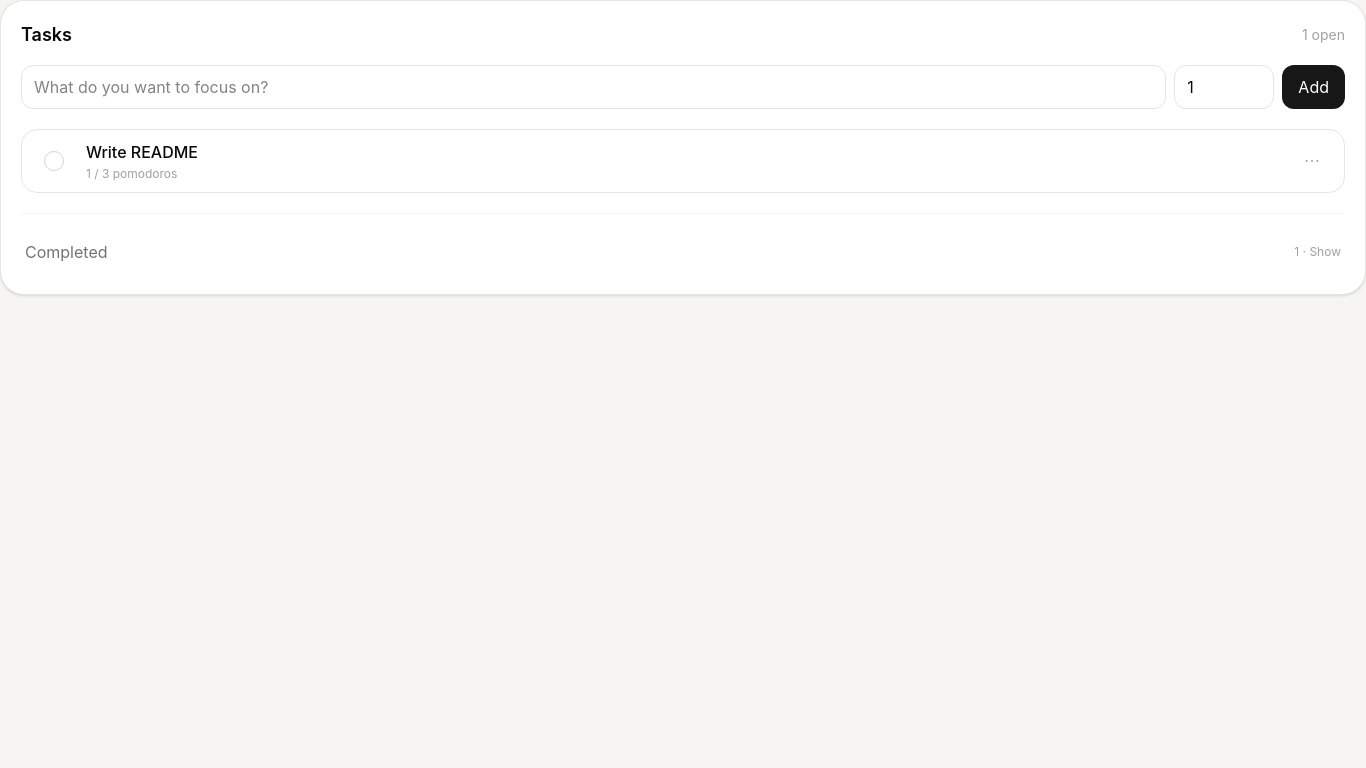
Scenario: TaskList Phase 2 workflow › edits title and estimate without changing completed pomodoros
Click the button named "More actions for".
click(1312, 161)  # box [1292,141,1332,181]
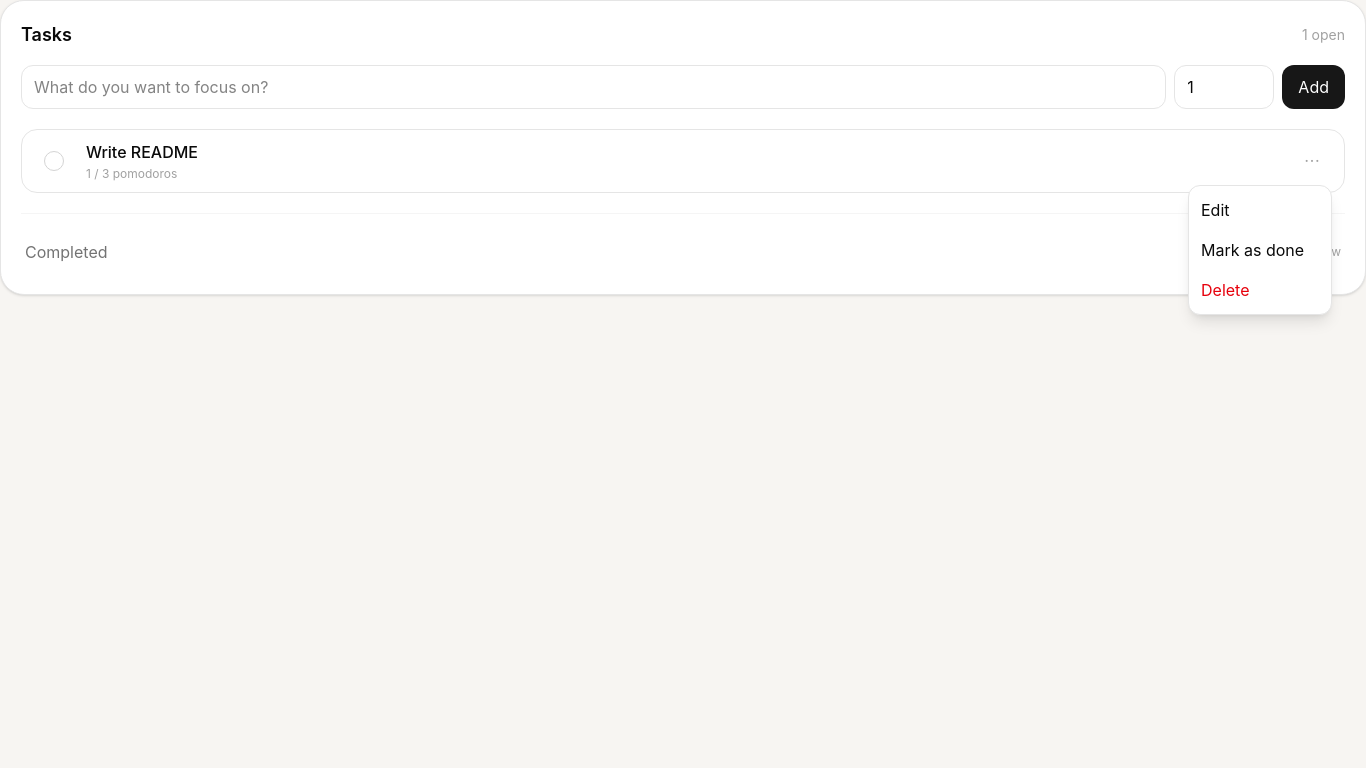
Click the menu item "Edit".
click(1260, 210)  # box [1189,190,1331,230]
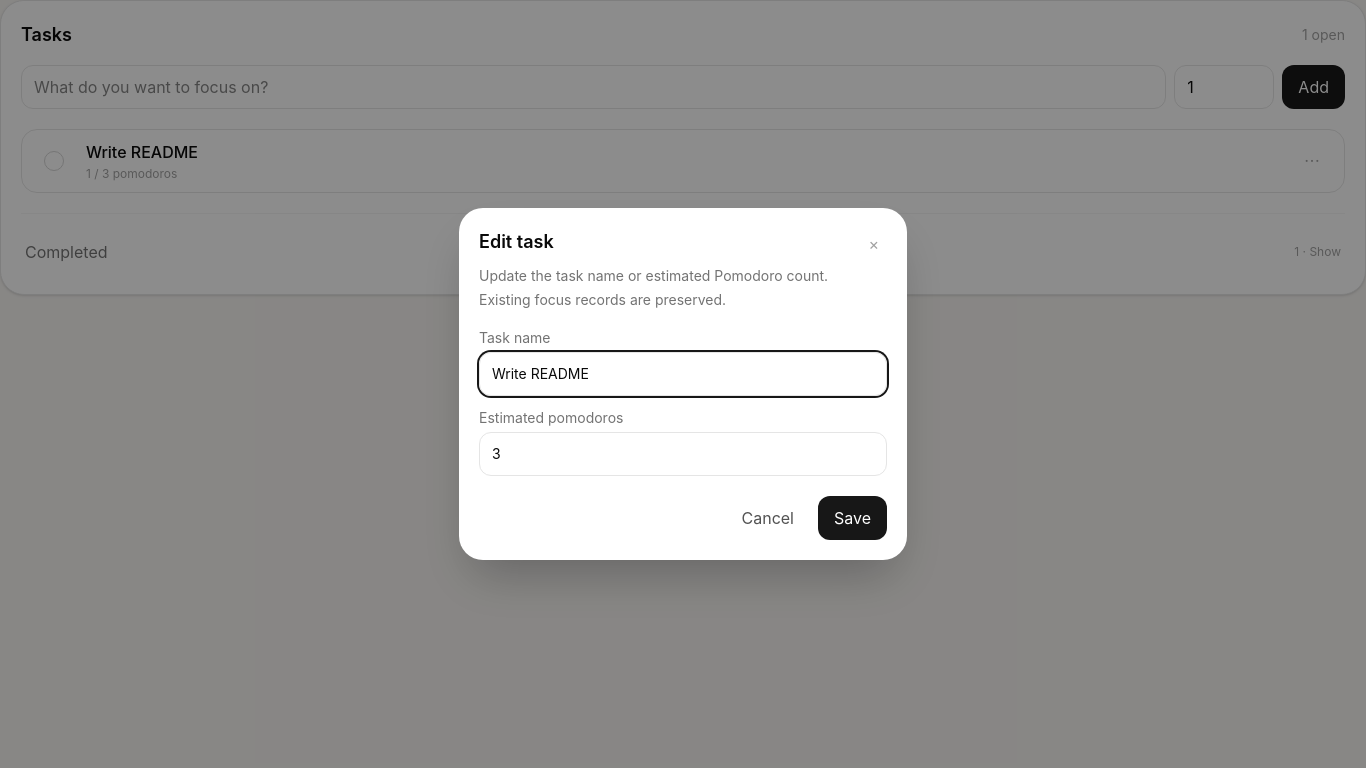
Replace the text in the field labelled "Task name" with "Write final README" at (683, 374), box [479,352,887,396]
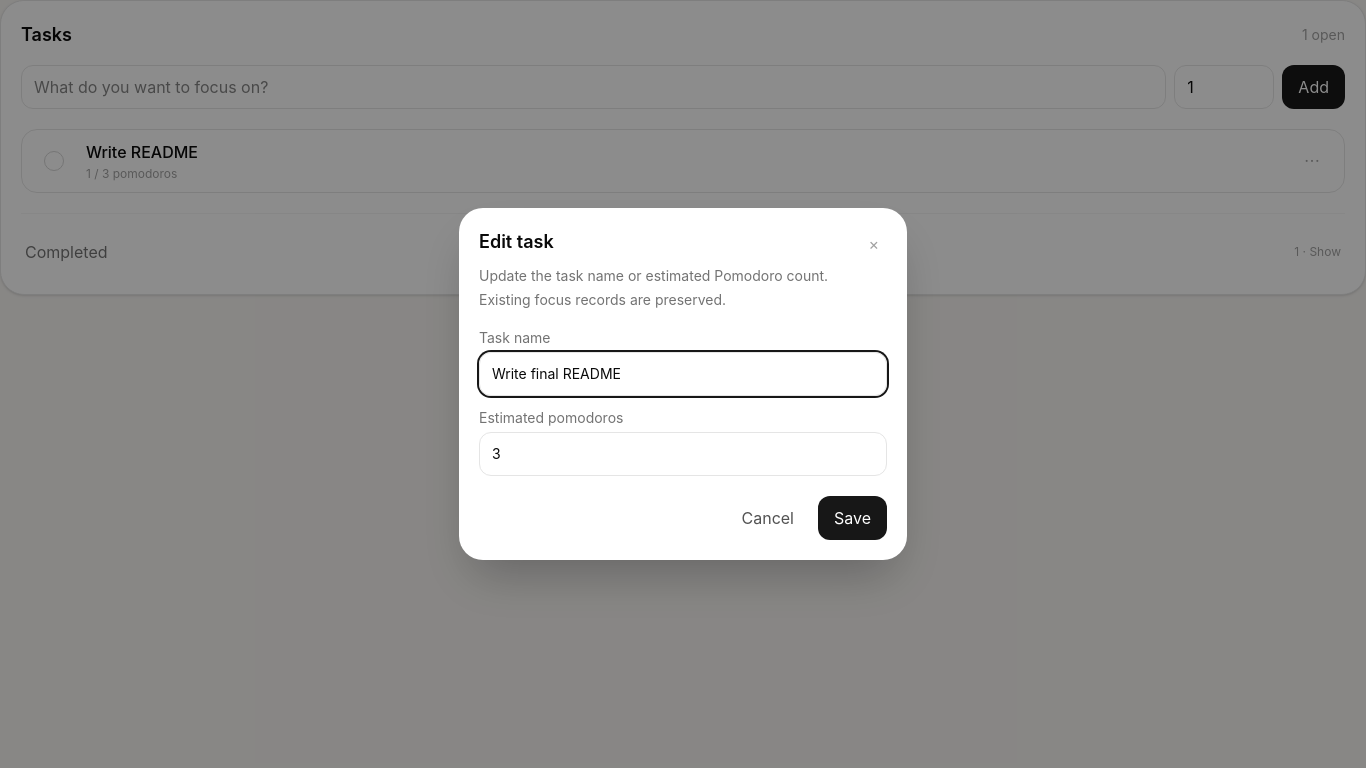
Replace the text in the number field labelled "Estimated pomodoros" with "5" at (683, 454), box [479,432,887,476]
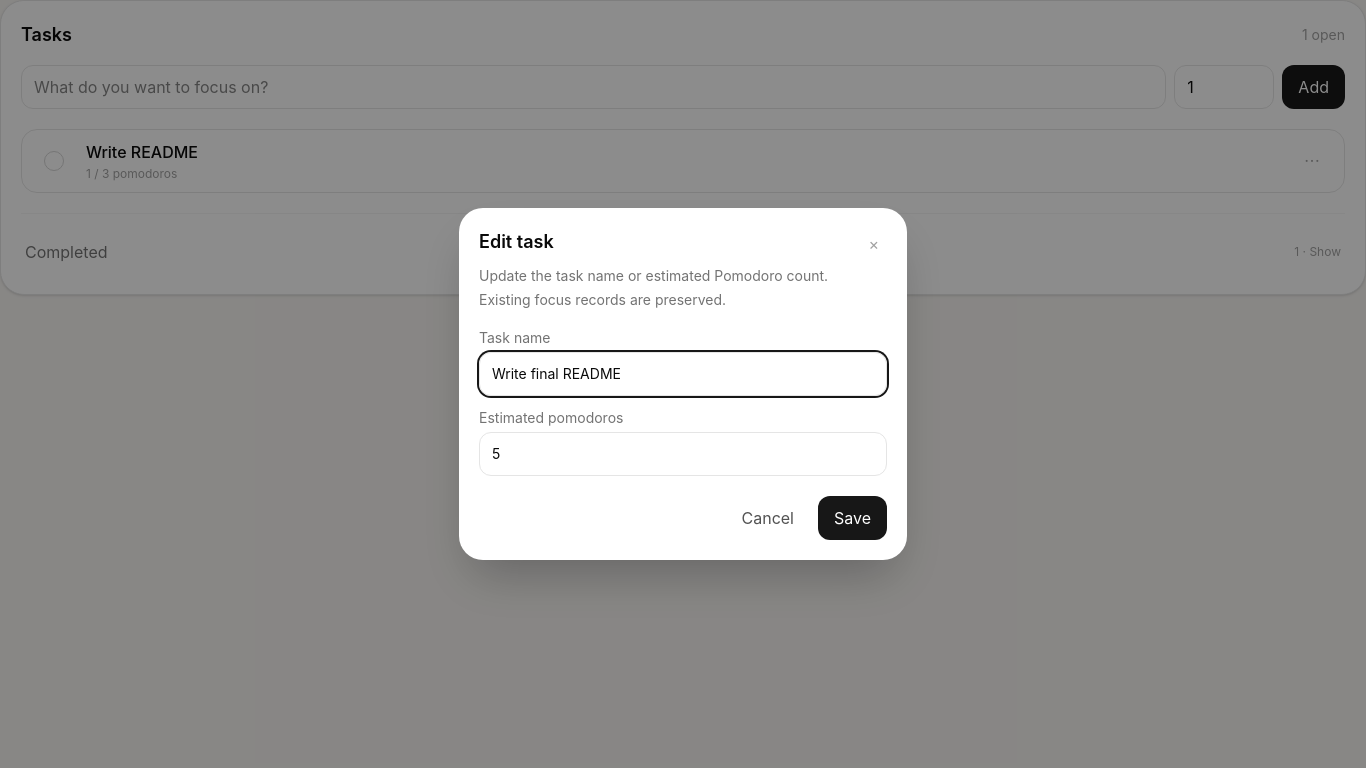
Click the button "Save".
click(852, 518)  # box [818,496,887,540]
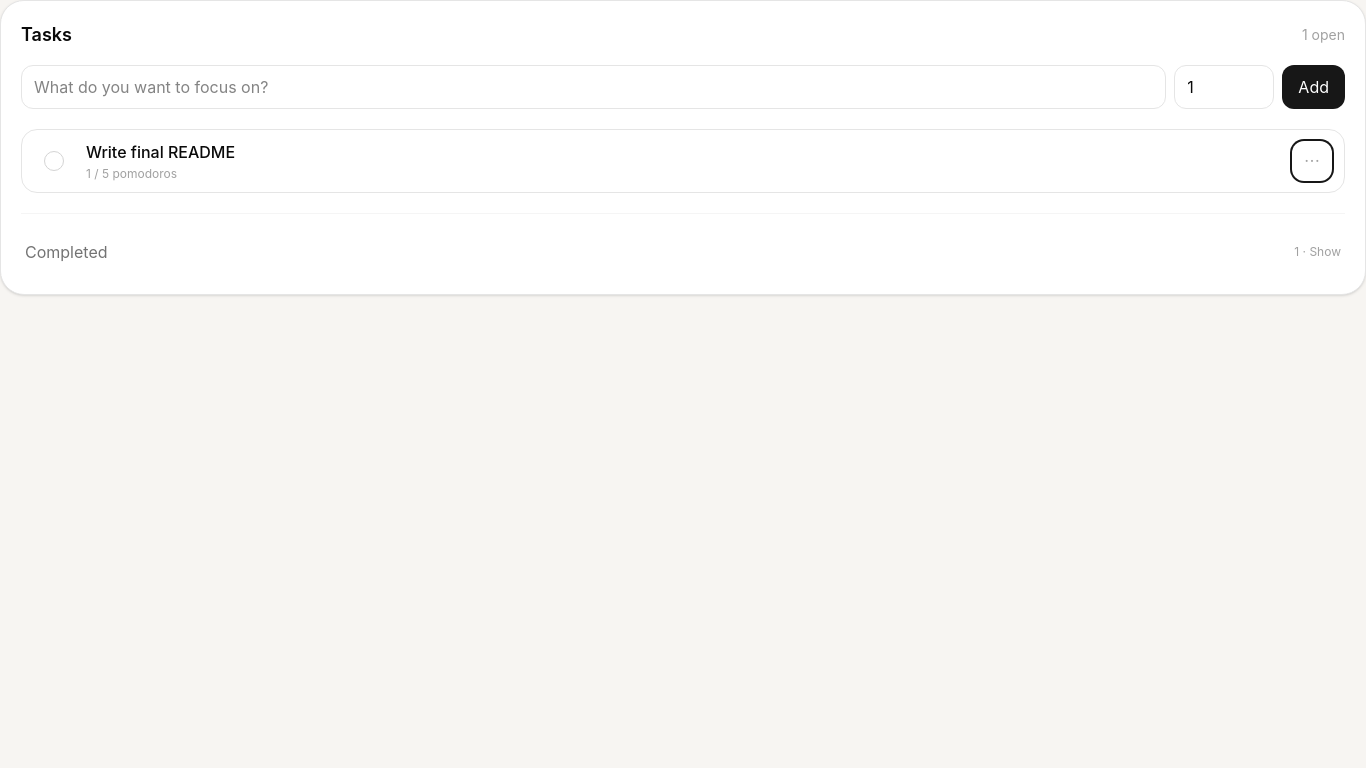
Now the text "Write README" reads "Write final README", box [86,142,235,162]
